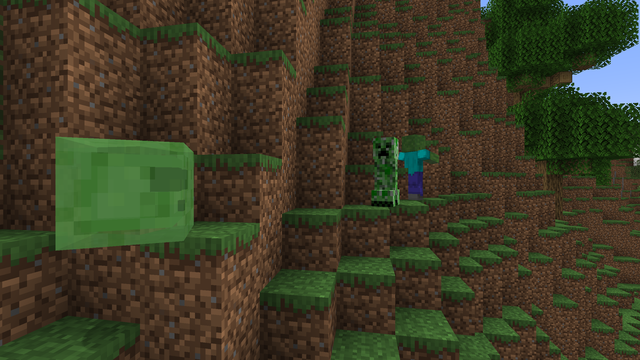creepers: (373, 133, 400, 206)
slimes: (46, 132, 208, 248)
zombies: (403, 135, 425, 199)
